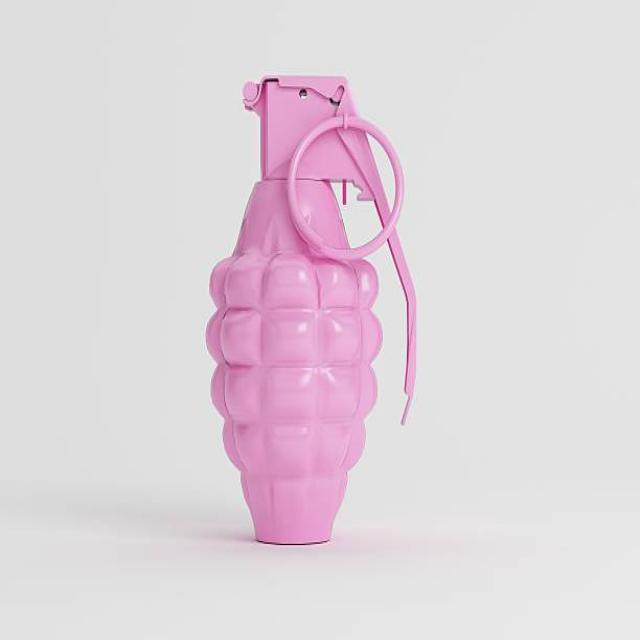grenade: (203, 65, 428, 555)
